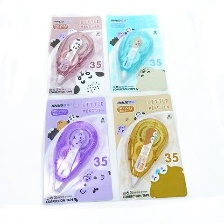correction_fluid: (119, 112, 172, 192), (47, 116, 100, 195), (111, 25, 157, 86), (52, 28, 98, 88)
